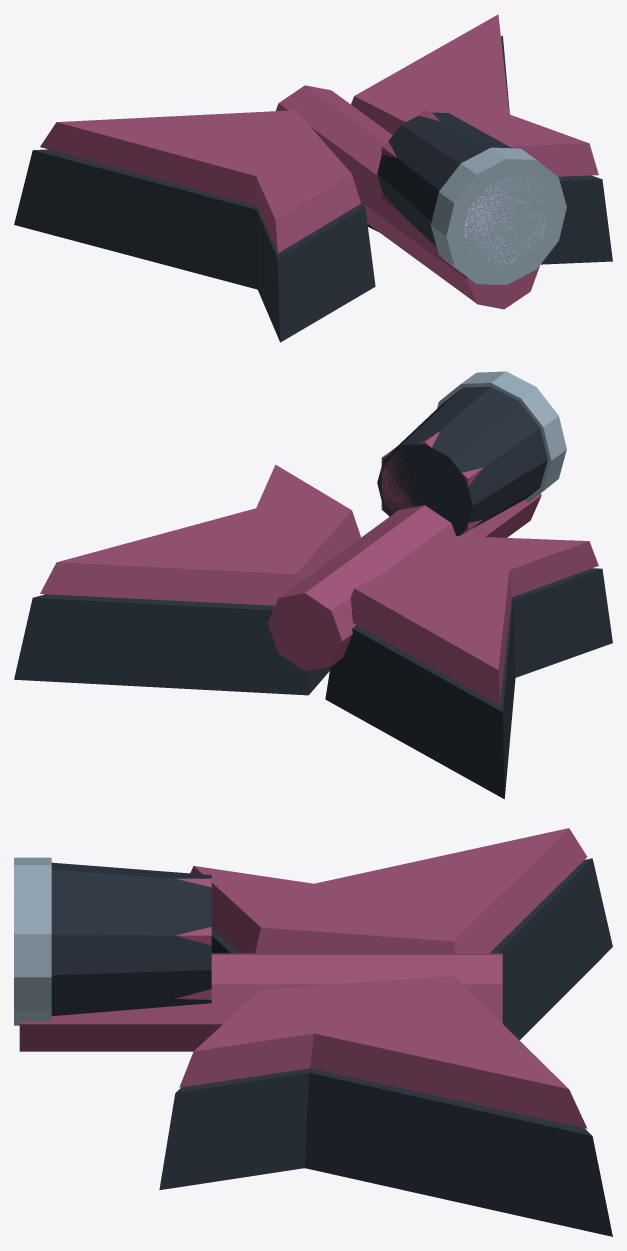
Rendered from c2_hiveDrone.glb.
3 views of the same model, one above another, from view 1: azimuth 30°, elevation 25°; view 2: azimuth 150°, elevation 25°; view 3: azimuth 270°, elevation 25° (orthographic). The views are drawn at different scales.
Parts seen in each view (by area): view 1: hiveDrone / Armor, hiveDrone / Chassis, hiveDrone / Titanium; view 2: hiveDrone / Chassis, hiveDrone / Armor, hiveDrone / Titanium; view 3: hiveDrone / Armor, hiveDrone / Chassis, hiveDrone / Titanium.
Part boxes in pixels (left/top/right/bottom): hiveDrone / Armor: left=40, top=14, right=598, bottom=309; hiveDrone / Chassis: left=14, top=35, right=612, bottom=342; hiveDrone / Titanium: left=430, top=147, right=566, bottom=284; hiveDrone / Chassis: left=14, top=386, right=612, bottom=799; hiveDrone / Armor: left=40, top=431, right=598, bottom=705; hiveDrone / Titanium: left=437, top=371, right=566, bottom=502; hiveDrone / Armor: left=19, top=828, right=587, bottom=1128; hiveDrone / Chassis: left=51, top=858, right=612, bottom=1236; hiveDrone / Titanium: left=14, top=857, right=51, bottom=1025.
Bounding box in the file's own units: 1.18 × 0.43 × 1.03.
